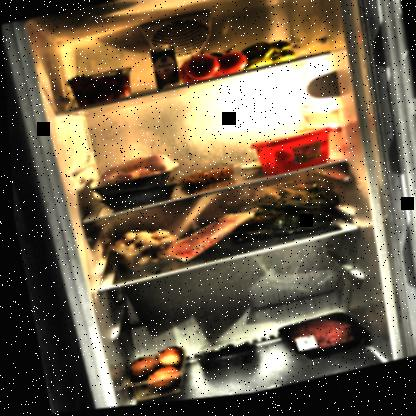banana: (231, 38, 299, 79)
blueberries: (189, 339, 257, 381)
butter: (244, 126, 335, 184)
chicken: (83, 151, 182, 204)
green_beans: (224, 178, 337, 236)
ground_beef: (273, 309, 370, 374)
heavy_cream: (148, 46, 181, 93)
mushrooms: (102, 225, 179, 276)
onion: (118, 344, 184, 402)
shrimp: (176, 165, 238, 194)
spinach: (225, 189, 335, 256)
strawberries: (61, 64, 135, 114)
tomato: (170, 44, 251, 91)
